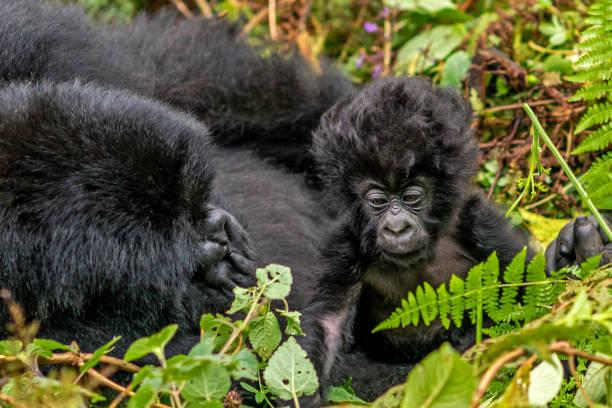goriile_montagne: (0, 0, 355, 366), (311, 67, 597, 348)
